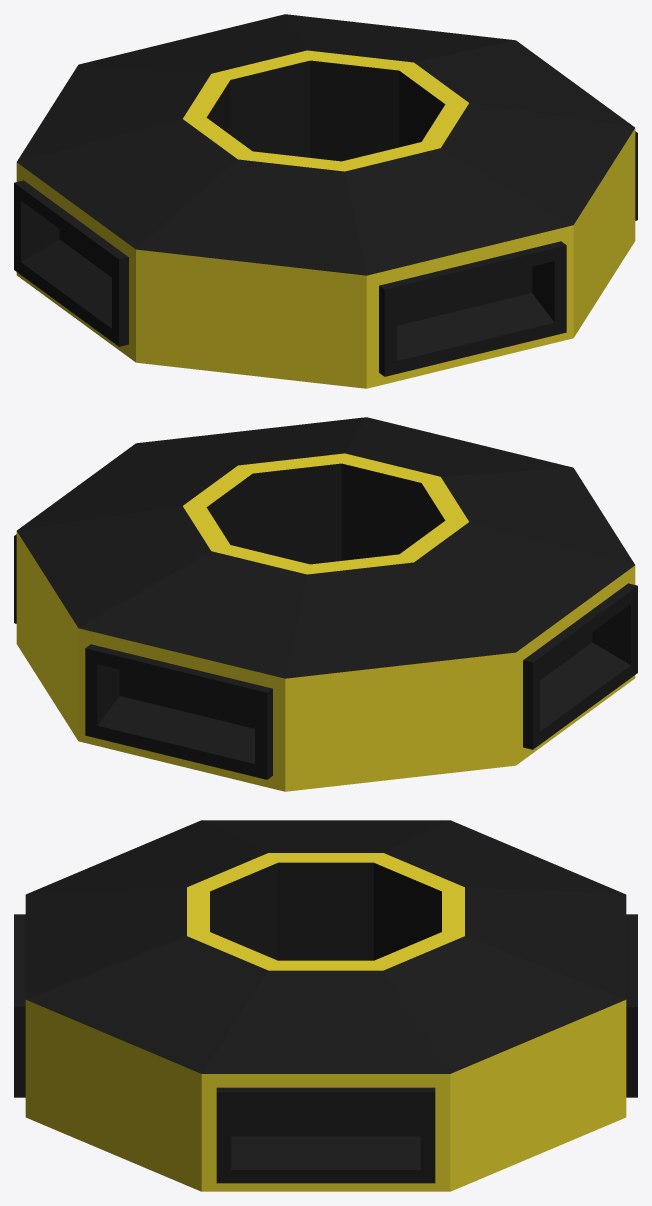
Rendered from rim.gltf.
3 views of the same model, one above another, from view 1: azimuth 30°, elevation 25°; view 2: azimuth 150°, elevation 25°; view 3: azimuth 270°, elevation 25° (orthographic). The views are drawn at different scales.
Parts seen in each view (by area): view 1: Rim; view 2: Rim; view 3: Rim.
Part boxes in pixels (x1=…): Rim: x1=14, y1=14, x2=637, y2=388; Rim: x1=14, y1=417, x2=637, y2=791; Rim: x1=14, y1=820, x2=637, y2=1191.
Bounding box in the file's own units: 0.7064 × 0.2354 × 0.7064.
